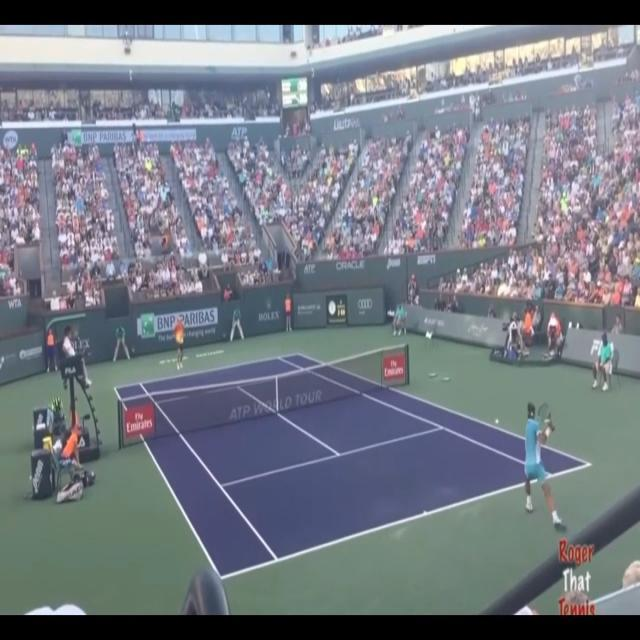court: (115, 352, 592, 581)
net: (118, 342, 411, 452)
player: (523, 402, 565, 528)
